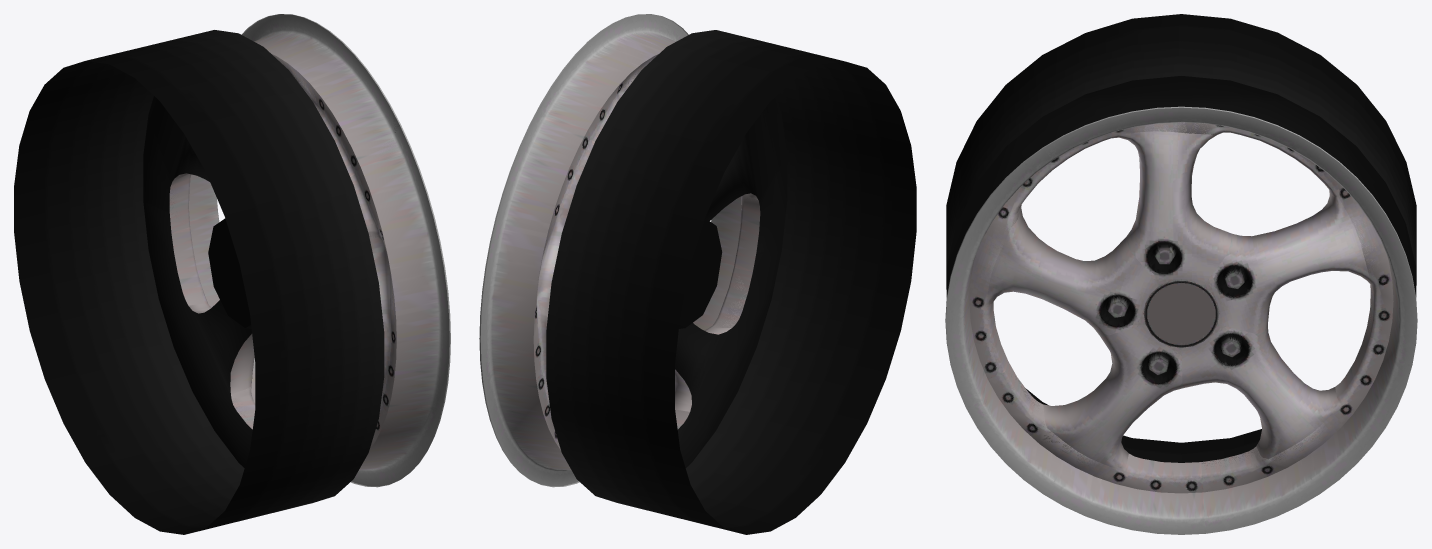
Rendered from wheel50.fbx.
3 renders of one model, left to right at view 1: azimuth 30°, elevation 25°; view 2: azimuth 150°, elevation 25°; view 3: azimuth 270°, elevation 25°, orthographic. The views are drawn at different scales.
Visible parts, largest first — view 1: gem_turbosport_wheel_wheel_inner_rim_, wheel_rim, gem_turbosport_wheel_wheel_rim_; view 2: gem_turbosport_wheel_wheel_inner_rim_, wheel_rim, gem_turbosport_wheel_wheel_rim_; view 3: gem_turbosport_wheel_wheel_rim_, wheel_rim, gem_turbosport_wheel_wheel_inner_rim_.
Boxes of the visible parts, box(x1,y1,x2,y2) form: gem_turbosport_wheel_wheel_inner_rim_: box(14, 30, 384, 534); wheel_rim: box(169, 14, 450, 487); gem_turbosport_wheel_wheel_rim_: box(170, 19, 449, 485); gem_turbosport_wheel_wheel_inner_rim_: box(546, 30, 916, 534); wheel_rim: box(479, 14, 760, 487); gem_turbosport_wheel_wheel_rim_: box(482, 14, 758, 484); gem_turbosport_wheel_wheel_rim_: box(946, 108, 1414, 534); wheel_rim: box(945, 106, 1417, 534); gem_turbosport_wheel_wheel_inner_rim_: box(946, 14, 1416, 462).
Size of the model in its own units: 0.2187 by 0.4705 by 0.4696.
1 material, 1 textured.
